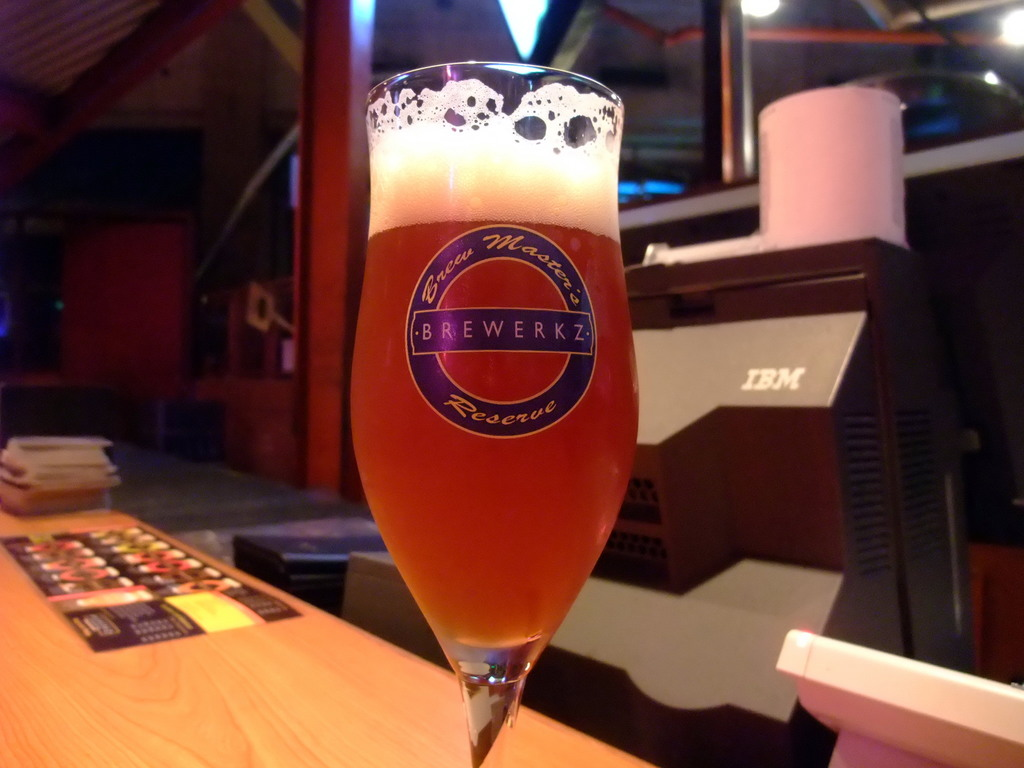Beer: (351, 76, 642, 642)
